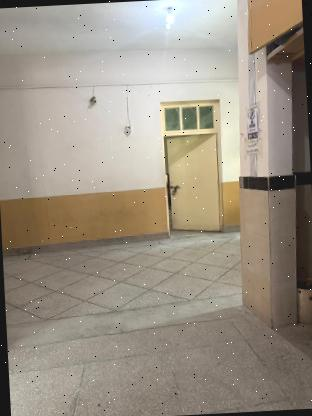door: (153, 92, 230, 246)
